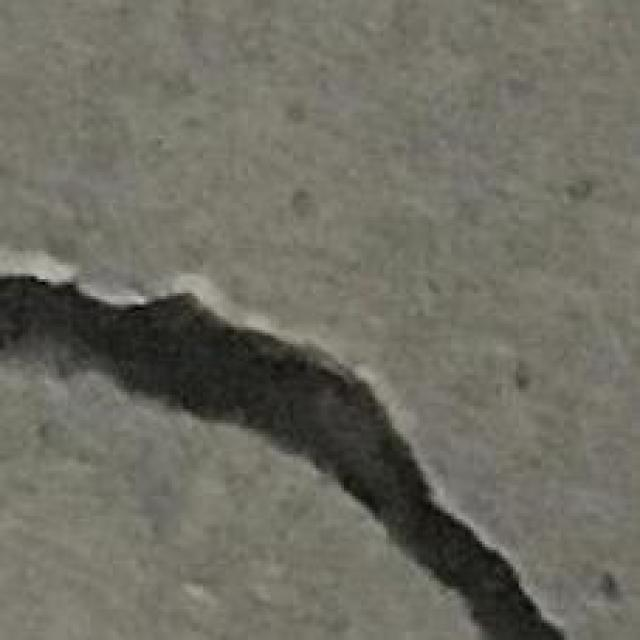Crack: (0, 265, 564, 637)
